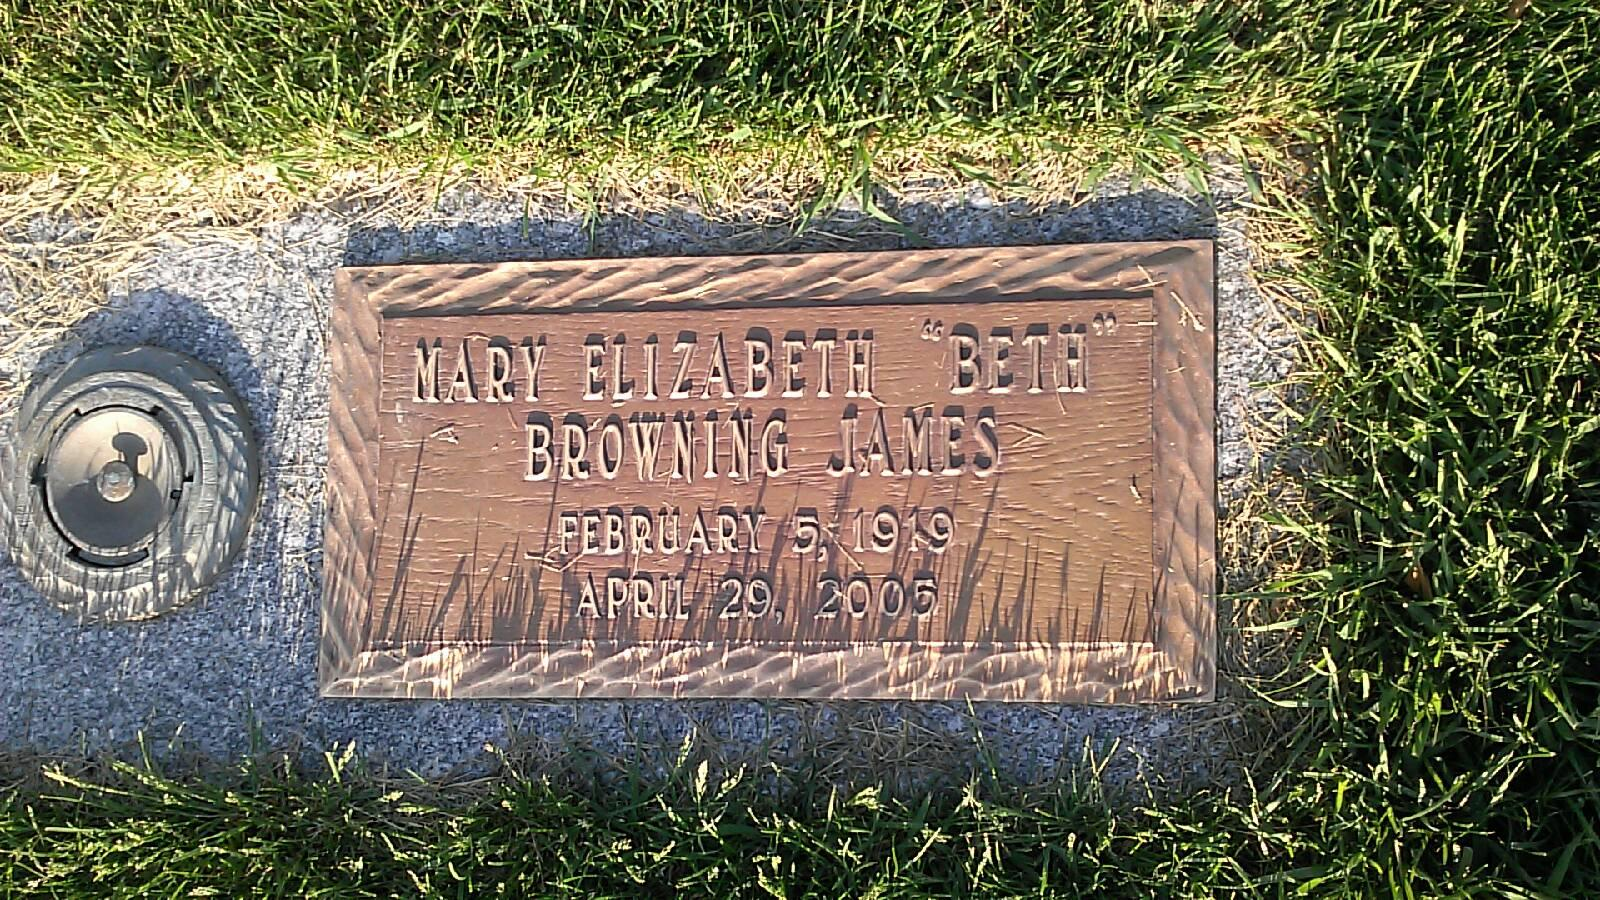flat: (0, 177, 1360, 779)
